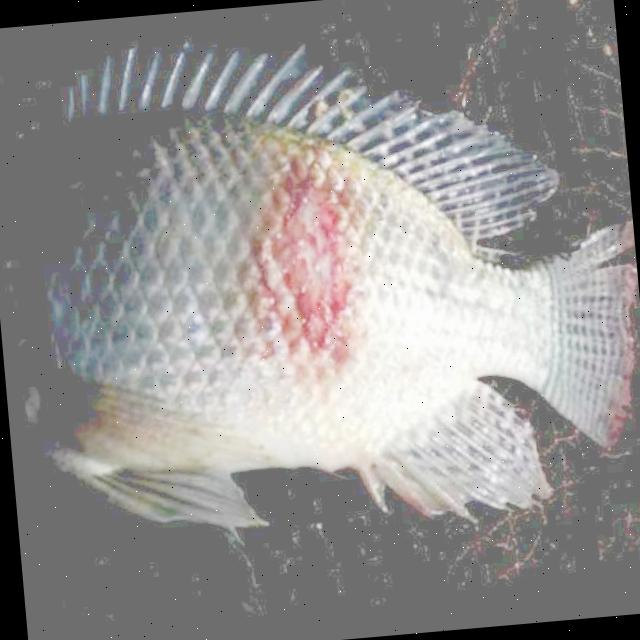Tilapia Lake Virus -TiLV-: (54, 44, 637, 525), (625, 316, 632, 427), (631, 240, 637, 296)
